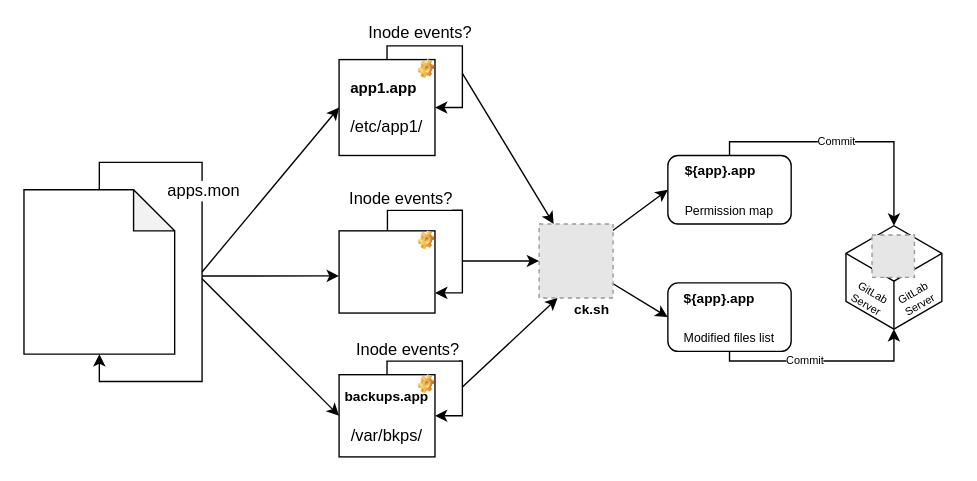
Some shapes in this 977 by 481 pixel diagram are drawn without their labels. Grey dashed boxes stand in for pictures. The box of each missing label's shape, as (x1, y1, x2, y2) in pixels:
apps.conf app1 /etc/app1/ serviceA /opt/srvca/ backups /var/bkps/: (23, 188, 175, 354)
serviceA.app /opt/srvca/: (338, 229, 435, 313)
